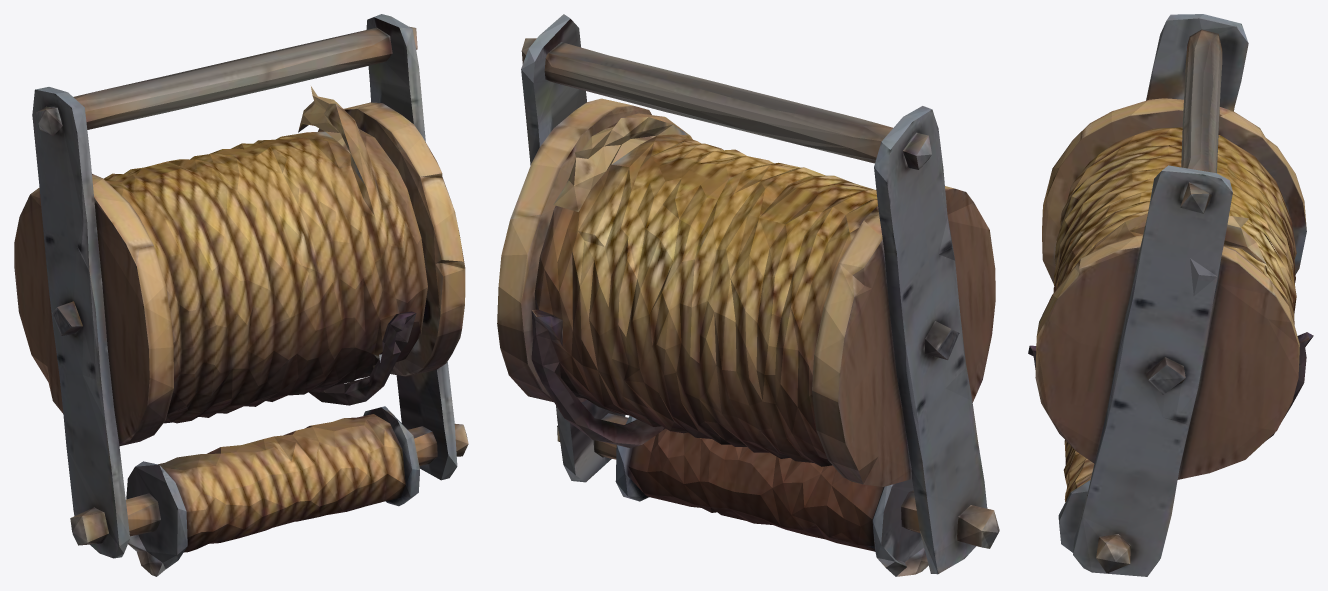
The model's file is rope_spool.glb.
3 views of the same model, side by side, from view 1: azimuth 30°, elevation 25°; view 2: azimuth 150°, elevation 25°; view 3: azimuth 270°, elevation 25° (orthographic). The views are drawn at different scales.
Visible parts, largest first — view 1: tmpqvbwdm5y.ply; view 2: tmpqvbwdm5y.ply; view 3: tmpqvbwdm5y.ply.
Part boxes in pixels (box(x1,y1,x2,y2)): tmpqvbwdm5y.ply: box(14, 14, 468, 576); tmpqvbwdm5y.ply: box(497, 14, 999, 576); tmpqvbwdm5y.ply: box(1028, 14, 1313, 576).
Bounding box in the file's own units: 1.8 × 1.98 × 1.18.
1 material, 1 textured.
